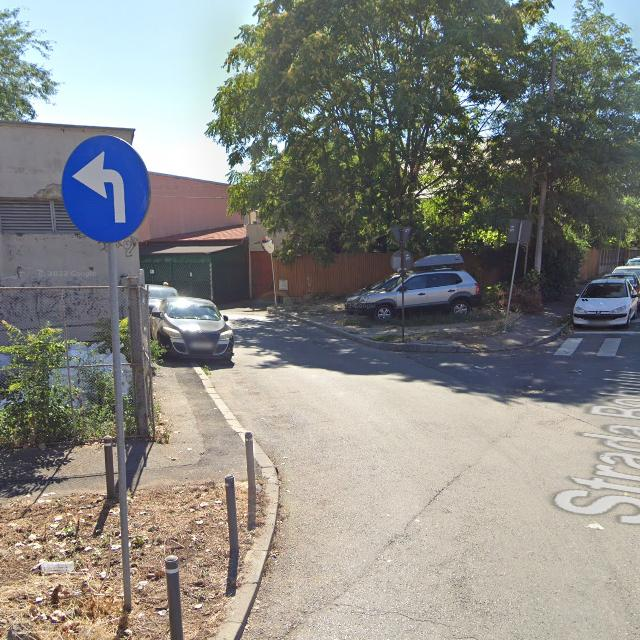mand_left: (59, 134, 152, 242)
